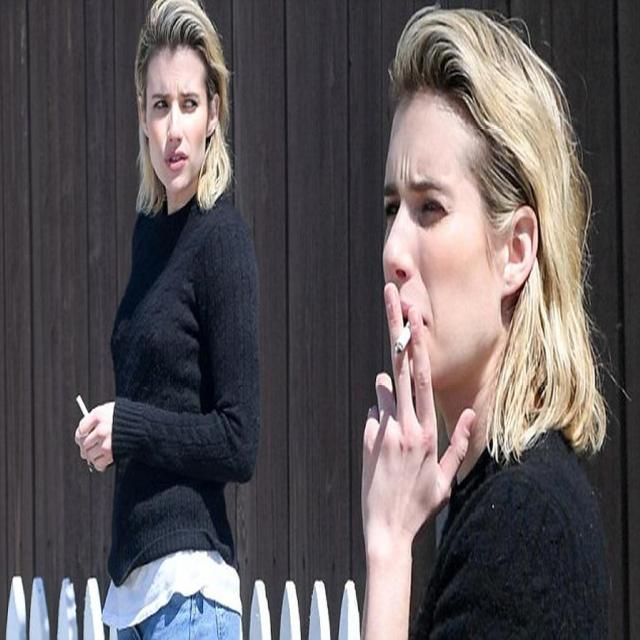smoking: (356, 19, 571, 554), (56, 0, 244, 475)
